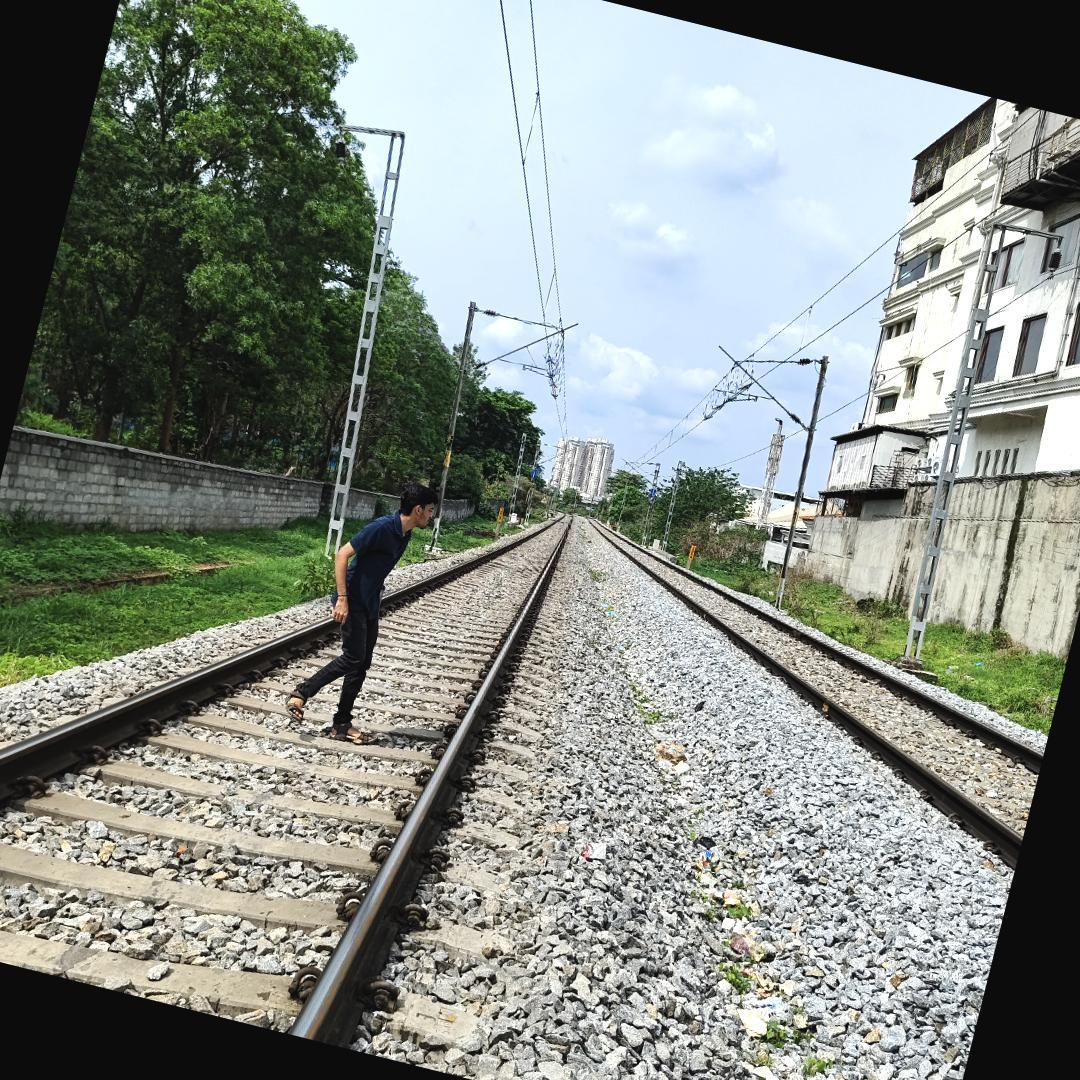standing: (270, 462, 446, 761)
track: (0, 492, 586, 1046)
